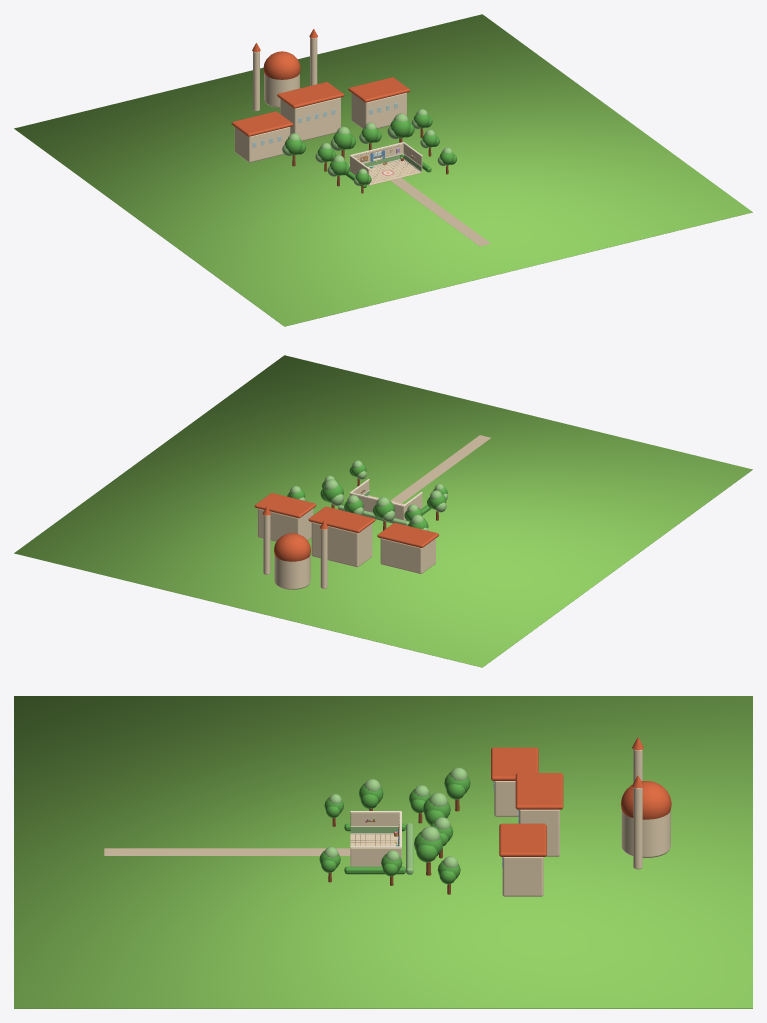
File: mahallah_room.glb
The picture shows the model from 3 angles, top to bottom: view 1: azimuth 30°, elevation 25°; view 2: azimuth 150°, elevation 25°; view 3: azimuth 270°, elevation 25°; orthographic projection. The views are drawn at different scales.
Parts seen in each view (by area): view 1: Grass, Block1, Block2, Block0, Path, Block1Roof, Block2Roof, Block0Roof, Dome, Floor, DomeDrum; view 2: Grass, Block1, Block0, Block2, Path, DomeDrum, Block1Roof, Block0Roof, Block2Roof, Dome; view 3: Grass, Path, Block1Roof, Block2, DomeDrum, Block2Roof, Block0Roof, Dome, Block1, Block0, Minaret1, WallL (+2 smaller).
Part boxes in pixels (box(x1,y1,x2,y2)): Grass: box(14, 14, 752, 326); Block1: box(280, 97, 340, 140); Block2: box(351, 92, 406, 128); Block0: box(234, 127, 290, 162); Path: box(390, 178, 490, 246); Block1Roof: box(277, 82, 344, 108); Block2Roof: box(348, 77, 409, 102); Block0Roof: box(231, 111, 293, 136); Dome: box(263, 51, 300, 79); Floor: box(368, 160, 422, 185); DomeDrum: box(264, 73, 299, 107); Grass: box(14, 355, 752, 667); Block1: box(311, 522, 372, 567); Block0: box(380, 538, 435, 573); Block2: box(257, 508, 313, 541); Path: box(391, 435, 490, 503); DomeDrum: box(274, 554, 310, 589); Block1Roof: box(308, 506, 375, 533); Block0Roof: box(377, 523, 438, 547); Block2Roof: box(254, 493, 316, 518); Dome: box(274, 533, 310, 561); Grass: box(14, 696, 752, 1008); Path: box(104, 848, 350, 855); Block1Roof: box(515, 773, 563, 809); Block2: box(502, 857, 543, 896); DomeDrum: box(621, 809, 670, 857); Block2Roof: box(499, 823, 546, 856); Block0Roof: box(491, 747, 538, 780); Dome: box(621, 781, 671, 819); Block1: box(519, 809, 559, 856); Block0: box(494, 781, 518, 816); Minaret1: box(633, 787, 642, 869); WallL: box(350, 812, 399, 826).
Size of what is drawn, in the model's own units: 90 by 12.45 by 90.
